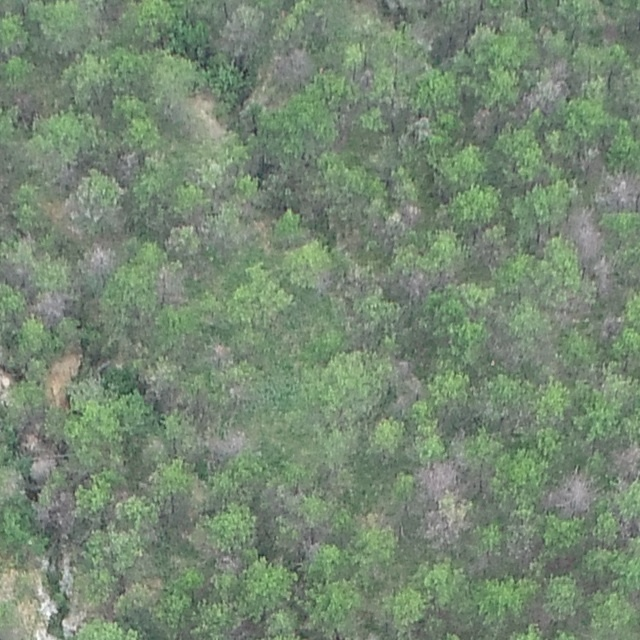unhealthy: (522, 58, 573, 114), (542, 468, 597, 516), (262, 46, 314, 93), (560, 202, 604, 257), (216, 8, 263, 58), (137, 368, 187, 410), (32, 488, 78, 532), (421, 505, 470, 546), (416, 458, 463, 498), (389, 359, 426, 409), (599, 169, 640, 211), (151, 262, 189, 306), (469, 227, 509, 268), (550, 289, 594, 326), (30, 288, 71, 326), (499, 401, 536, 438), (207, 428, 249, 460), (608, 439, 640, 481), (84, 239, 120, 276), (504, 531, 539, 569), (43, 196, 80, 231), (385, 203, 423, 236), (489, 331, 522, 369), (394, 268, 433, 300), (589, 254, 618, 297), (572, 142, 607, 177), (25, 444, 58, 480), (0, 251, 32, 285), (594, 12, 624, 46), (469, 105, 499, 139), (113, 149, 142, 183), (9, 87, 41, 117), (360, 508, 396, 532), (409, 19, 438, 46), (224, 616, 258, 639), (311, 267, 337, 297), (598, 312, 625, 340), (234, 193, 262, 219), (215, 550, 245, 574), (351, 63, 377, 89), (466, 551, 492, 576), (209, 340, 234, 364)
